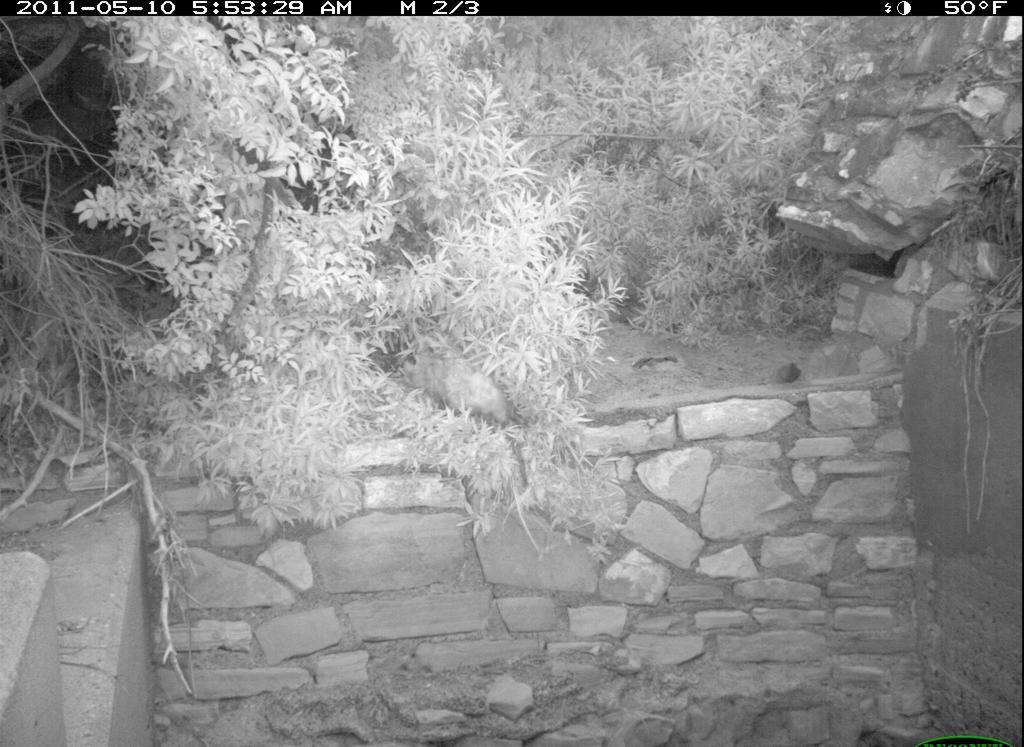opossum: (393, 319, 532, 449)
